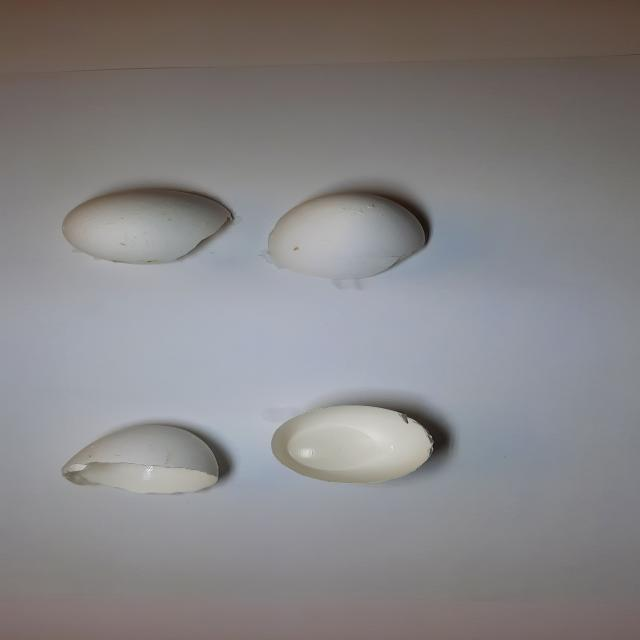egg shell: (36, 411, 246, 509), (247, 186, 440, 292), (258, 398, 452, 490), (46, 182, 240, 270)
